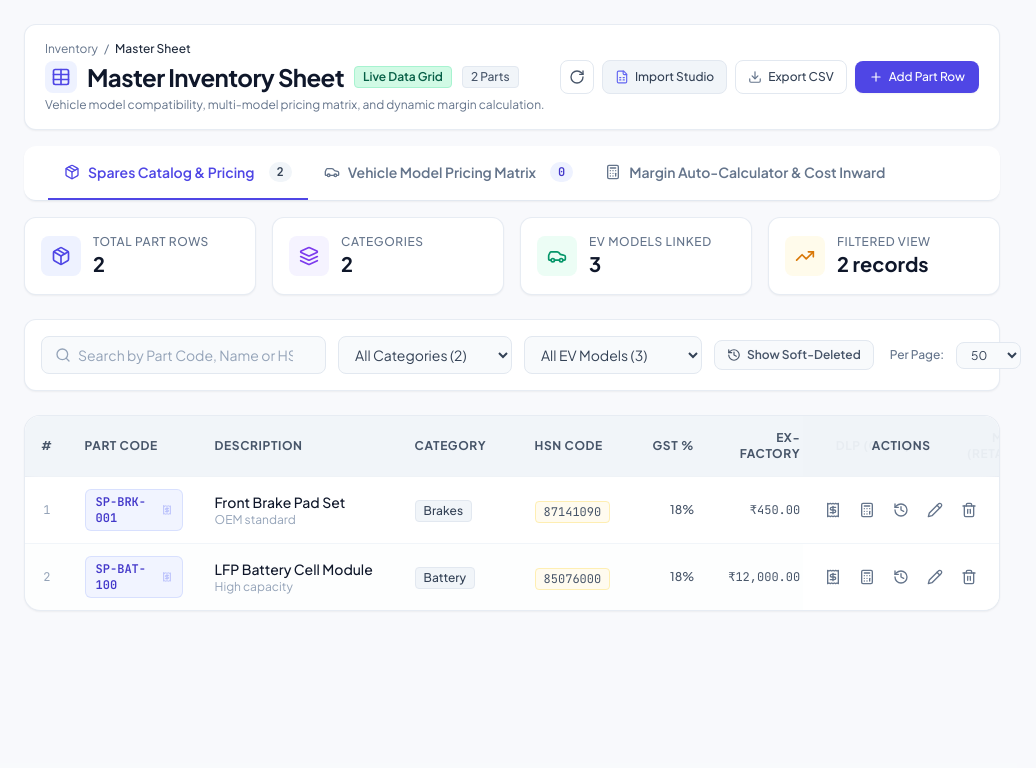
Test: InventoryTablePage › filters rows dynamically when searching by part code or description
The image size is (1036, 768).
Expected: the text "SP-BRK-001" is shown, top-left (96, 494), bottom-right (146, 526)
Type "Battery" into the field with placeholder "Search by Part Code, Name or HSN...".
click(184, 355); type("Battery")  # box top-left (41, 336), bottom-right (326, 374)
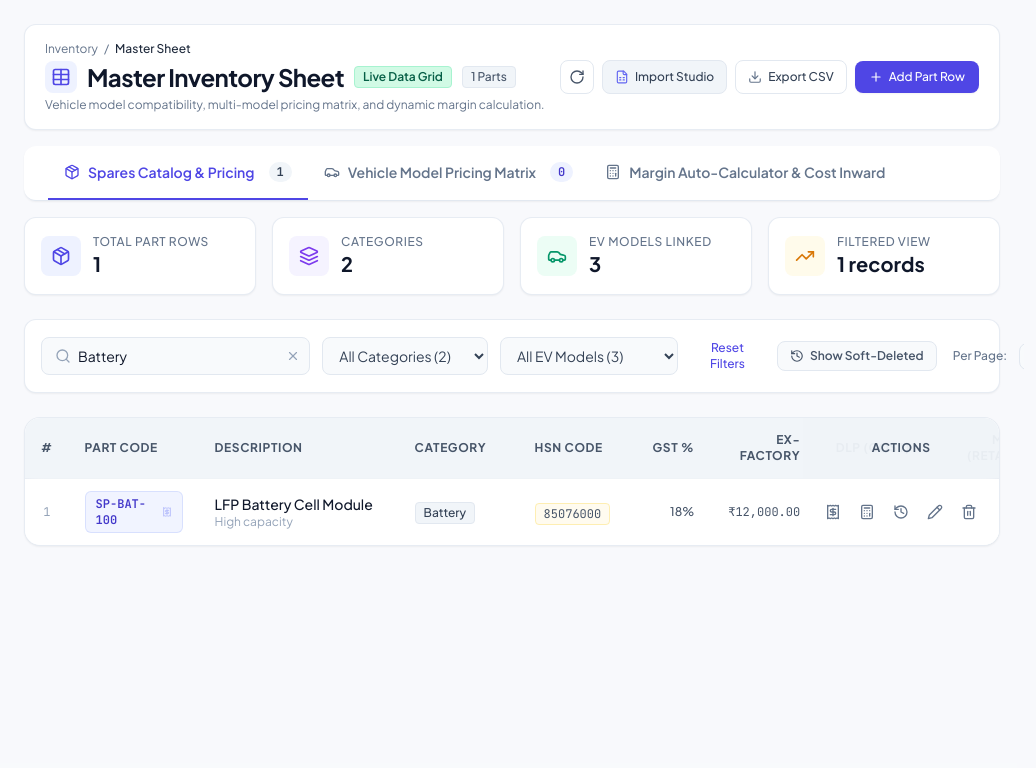
Expected: the text "SP-BAT-100" is shown, top-left (96, 496), bottom-right (146, 528)
Expected: the button "SP-BRK-001" is gone
